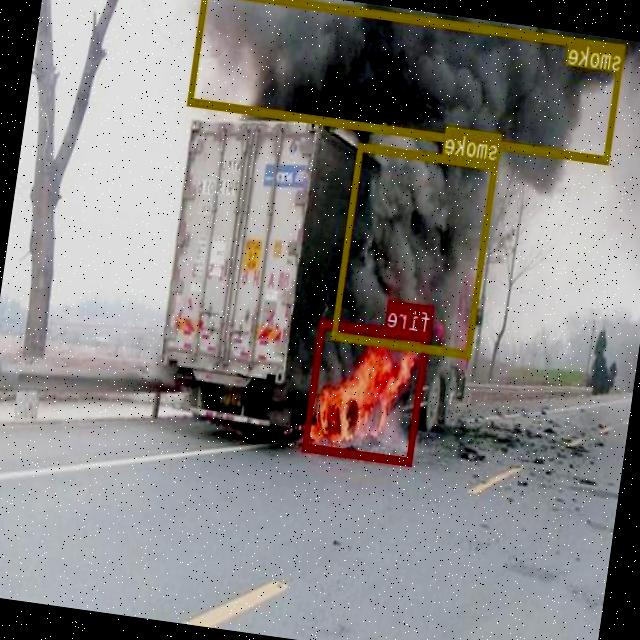fire: (304, 318, 430, 464)
smoke: (189, 0, 626, 164), (333, 141, 499, 357)
